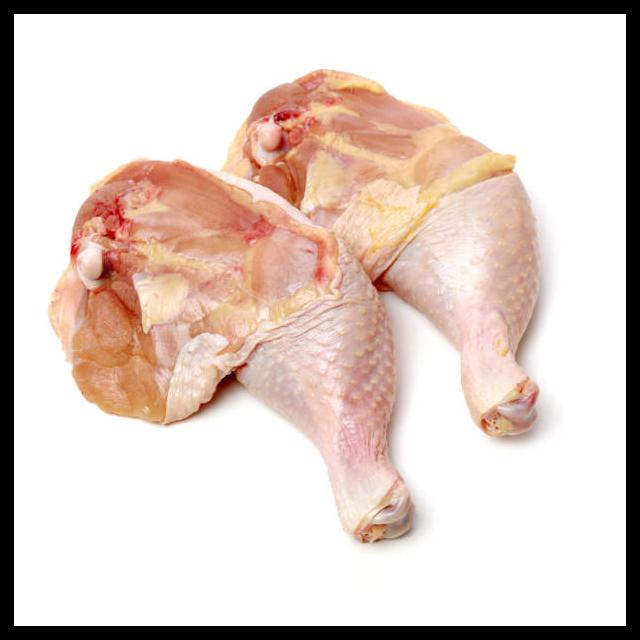chicken: (46, 65, 544, 546)
